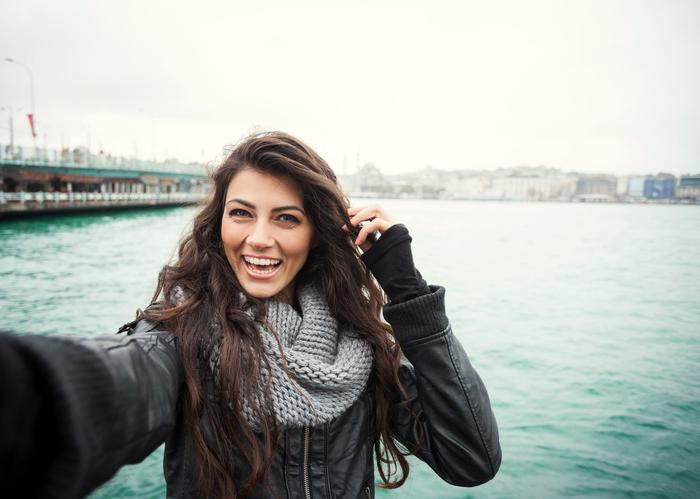face: (220, 172, 313, 298)
